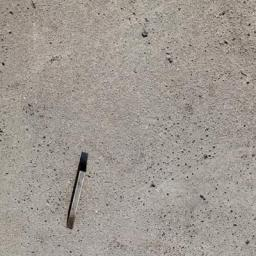FOD: (65, 152, 95, 233)
